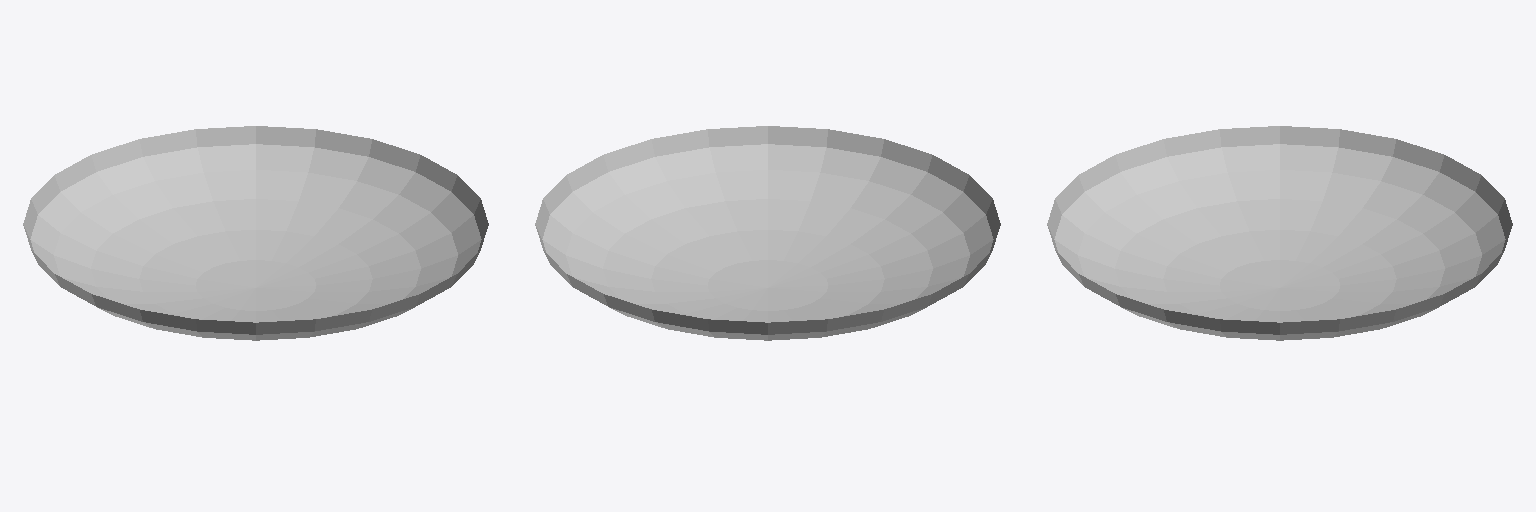
Rendered from godi.obj.
3 renders of one model, left to right at view 1: azimuth 30°, elevation 25°; view 2: azimuth 150°, elevation 25°; view 3: azimuth 270°, elevation 25°, orthographic.
Visible parts, largest first — view 1: Sphere_0; view 2: Sphere_0; view 3: Sphere_0.
Boxes of the visible parts, x1,y1,x2,y2 form: Sphere_0: [23, 126, 488, 340]; Sphere_0: [535, 126, 1000, 340]; Sphere_0: [1047, 126, 1512, 340].
Bounding box in the file's own units: 3.99 × 0.6 × 3.99.